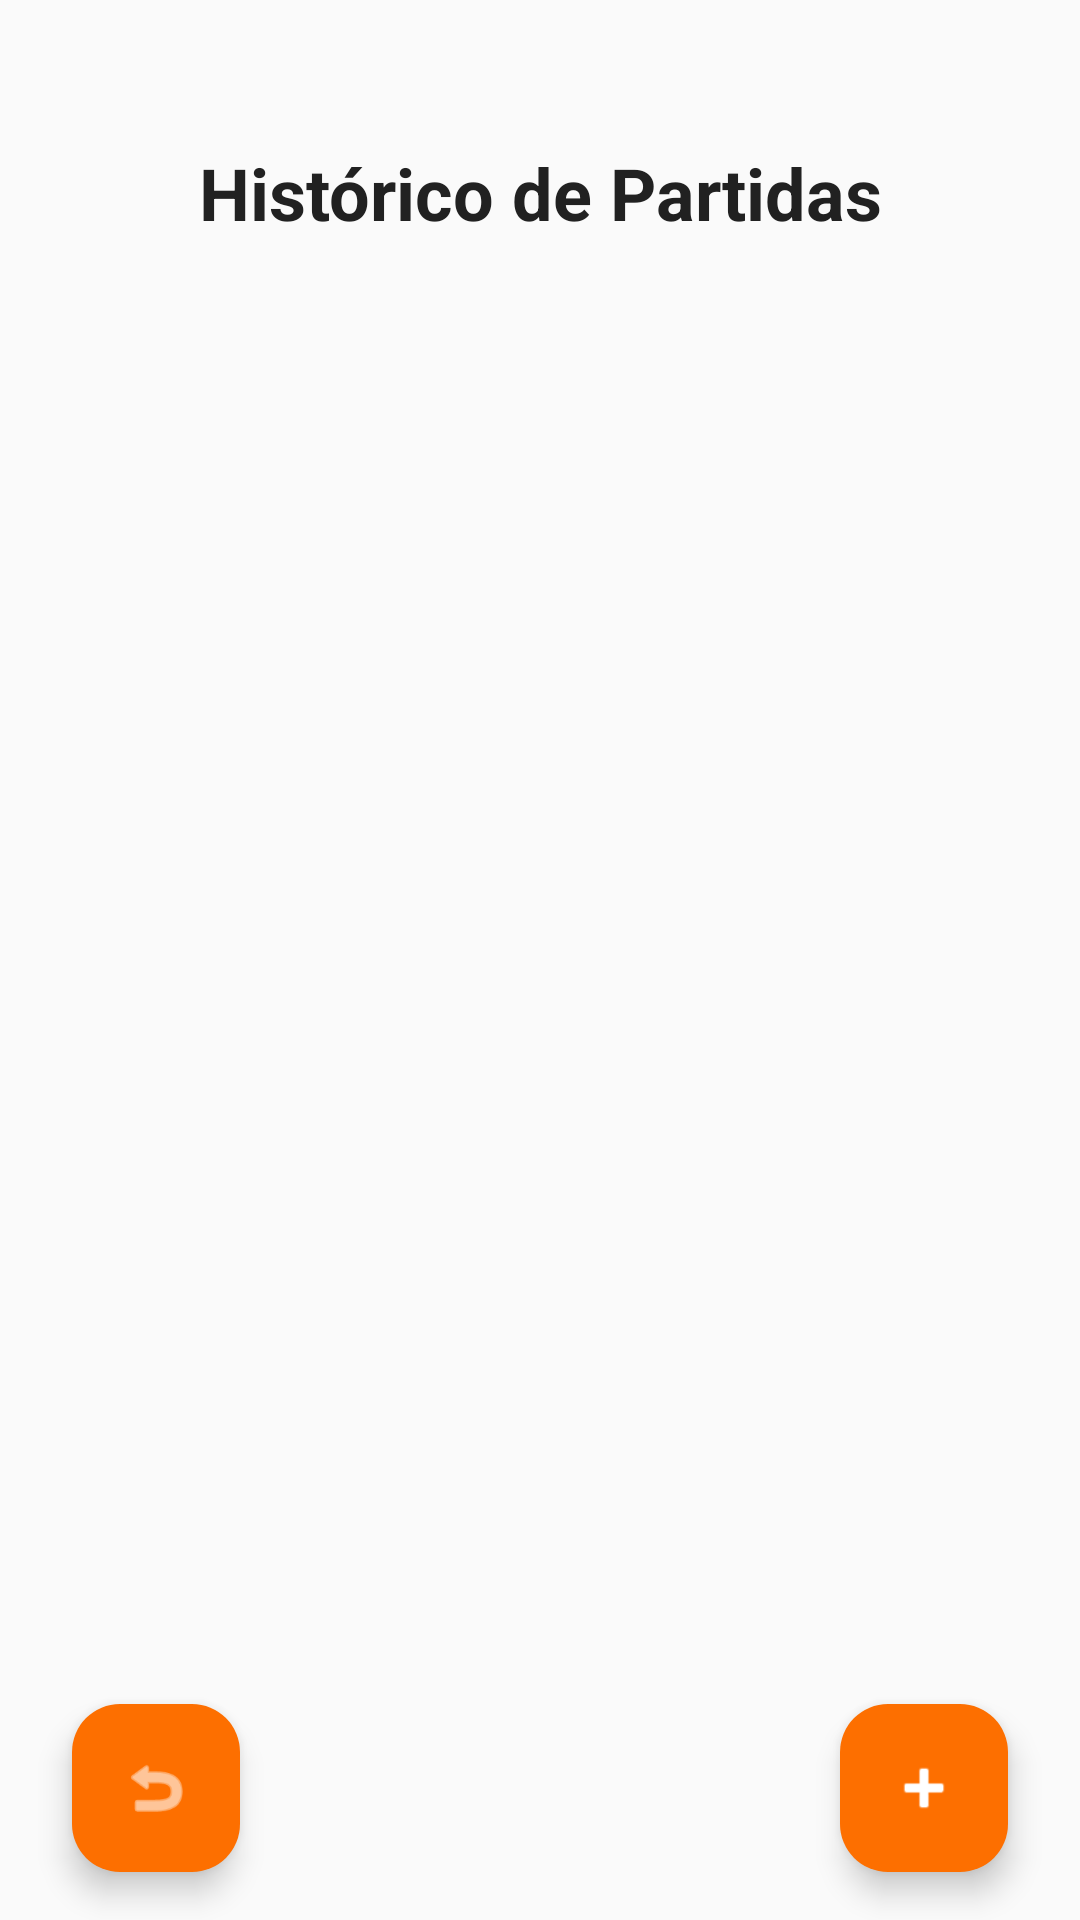

Icons on this 1080w x 1920h Android screen, each with its box as {"left": x1, "top": y1, "right": x2, "bottom": y2}:
Adicionar Partida: {"left": 840, "top": 1704, "right": 1008, "bottom": 1872}
